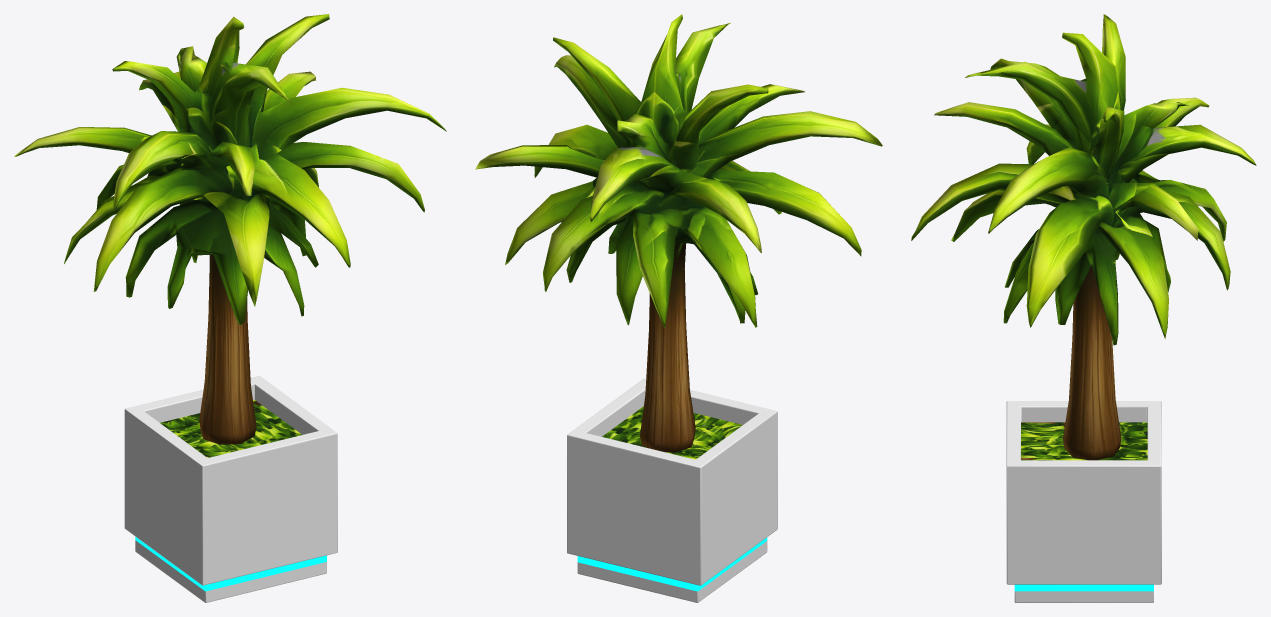
Rendered from TallPottedPlant.fbx.
The picture shows the model from 3 angles, left to right: view 1: azimuth 30°, elevation 25°; view 2: azimuth 150°, elevation 25°; view 3: azimuth 270°, elevation 25°; orthographic projection.
Visible parts, largest first — view 1: TallPottedPlantPlant, TallPottedPlant; view 2: TallPottedPlantPlant, TallPottedPlant; view 3: TallPottedPlantPlant, TallPottedPlant.
Part boxes in pixels (box(x1,y1,x2,y2)): TallPottedPlantPlant: box(14, 14, 446, 457); TallPottedPlant: box(124, 376, 337, 602); TallPottedPlantPlant: box(475, 14, 882, 459); TallPottedPlant: box(567, 378, 777, 602); TallPottedPlantPlant: box(911, 14, 1256, 460); TallPottedPlant: box(1006, 401, 1161, 602).
Size of the model in its own units: 73.51 by 116 by 66.77.
2 materials, 2 textured.
